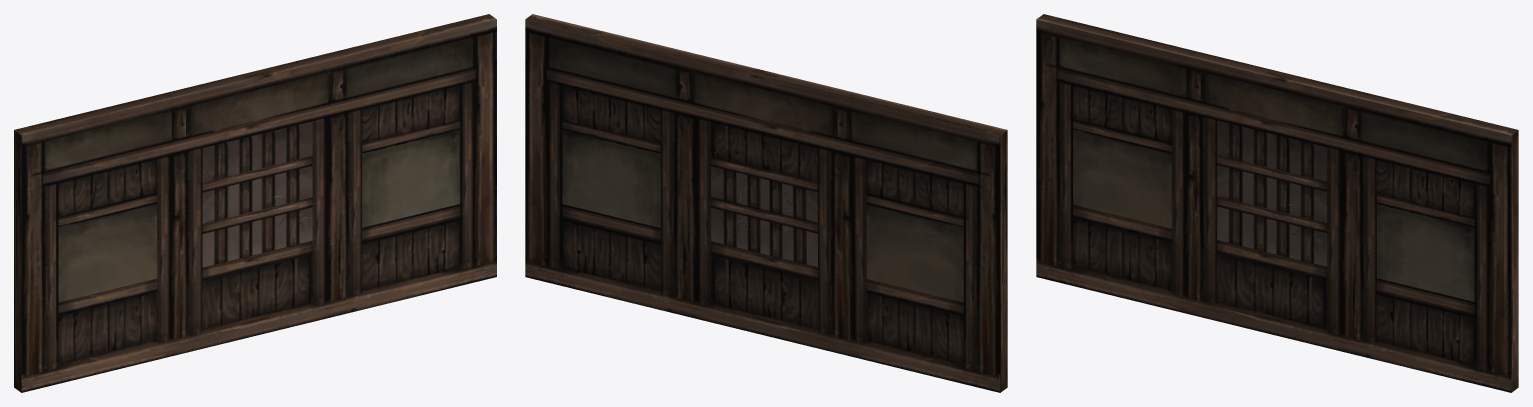
File: STR_WallHouseB02.FBX
The picture shows the model from 3 angles, left to right: view 1: azimuth 30°, elevation 25°; view 2: azimuth 150°, elevation 25°; view 3: azimuth 330°, elevation 25°; orthographic projection.
Visible parts, largest first — view 1: STR_WallHouseB02; view 2: STR_WallHouseB02; view 3: STR_WallHouseB02.
Part boxes in pixels (x1,y1,x2,y2): STR_WallHouseB02: [14, 14, 496, 392]; STR_WallHouseB02: [525, 14, 1007, 392]; STR_WallHouseB02: [1036, 14, 1518, 392].
Bounding box in the file's own units: 666 × 345 × 18.29.
